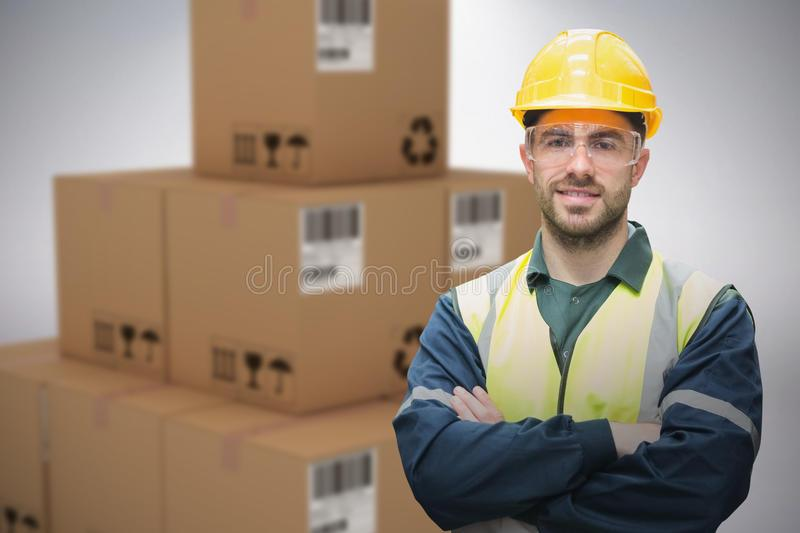helmet: (506, 26, 665, 136)
